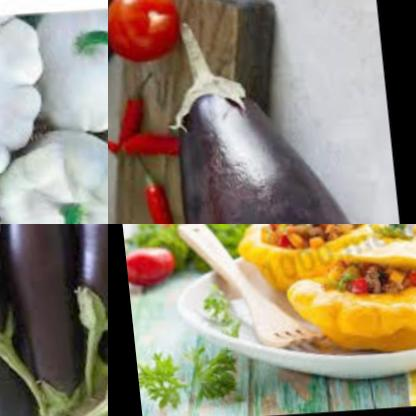eggplant: (144, 5, 359, 224), (0, 224, 78, 416), (45, 224, 108, 378), (0, 224, 45, 416), (65, 224, 108, 395), (49, 292, 108, 416)
hot pepper: (108, 88, 146, 164), (131, 171, 176, 224), (111, 132, 178, 163)
squash-patisson: (15, 2, 108, 140), (0, 20, 59, 217), (280, 268, 416, 349), (0, 126, 108, 224), (229, 224, 365, 286), (335, 224, 416, 275)
tomato: (108, 0, 183, 69), (120, 234, 177, 288)
